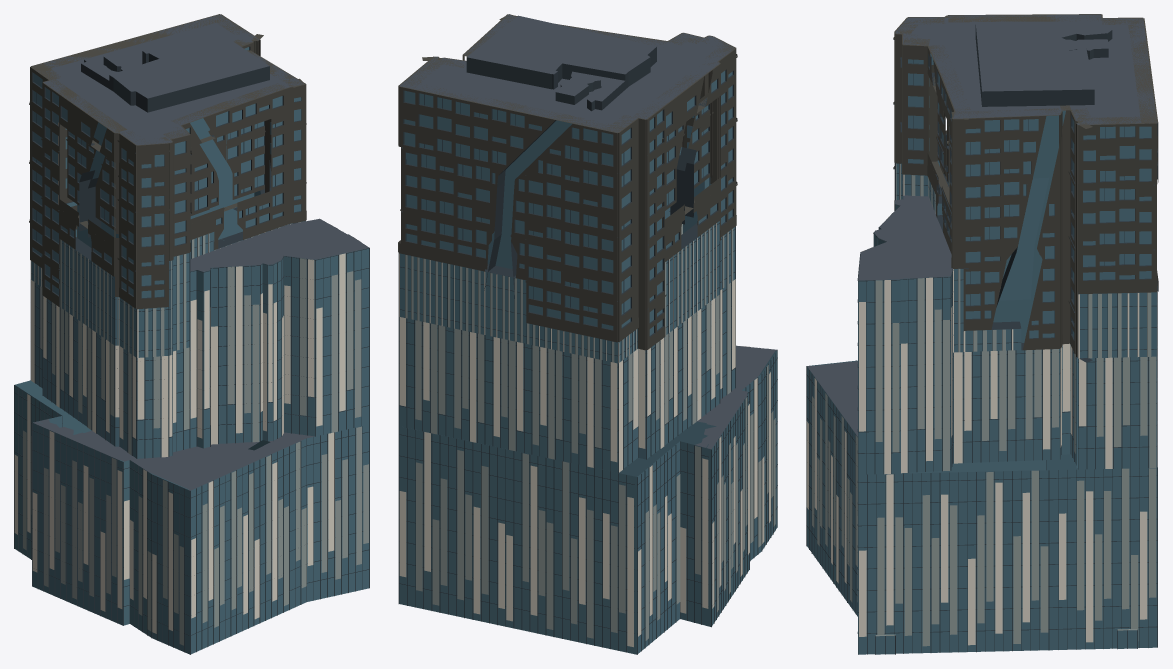
Rendered from the-rock.glb.
3 views of the same model, side by side, from view 1: azimuth 30°, elevation 25°; view 2: azimuth 150°, elevation 25°; view 3: azimuth 270°, elevation 25° (orthographic). The views are drawn at different scales.
Parts seen in each view (by area): view 1: the-rock; view 2: the-rock; view 3: the-rock.
Boxes of the visible parts, <box> form: the-rock: <box>14,14,369,654</box>; the-rock: <box>398,14,777,654</box>; the-rock: <box>806,14,1158,654</box>.
Size of the model in its own units: 48.36 by 90.12 by 53.26.
